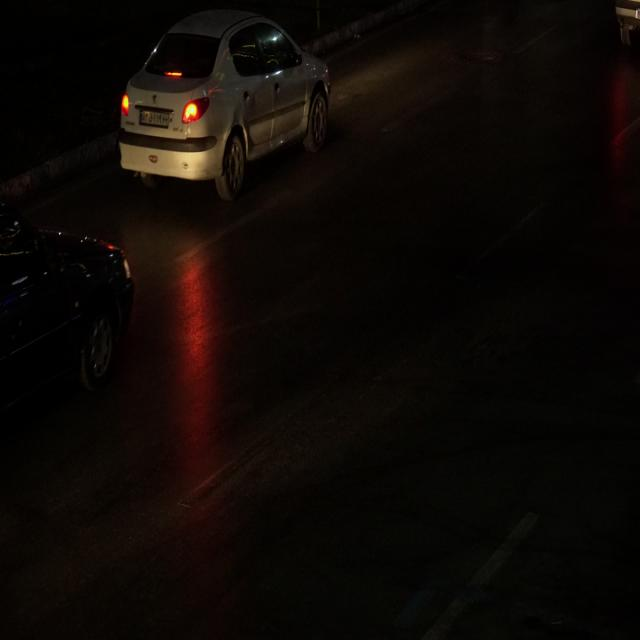car: (115, 13, 333, 202), (0, 210, 133, 410)
